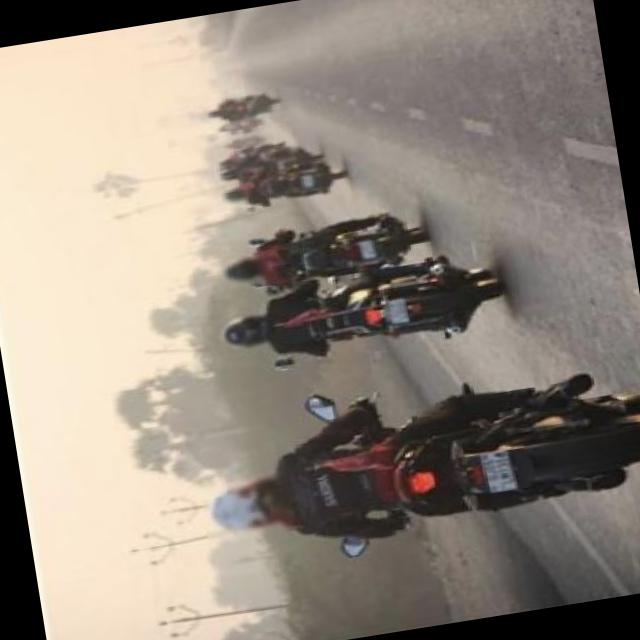With Helmet: (199, 467, 294, 544), (207, 309, 283, 359), (209, 250, 272, 290), (213, 184, 250, 208)
